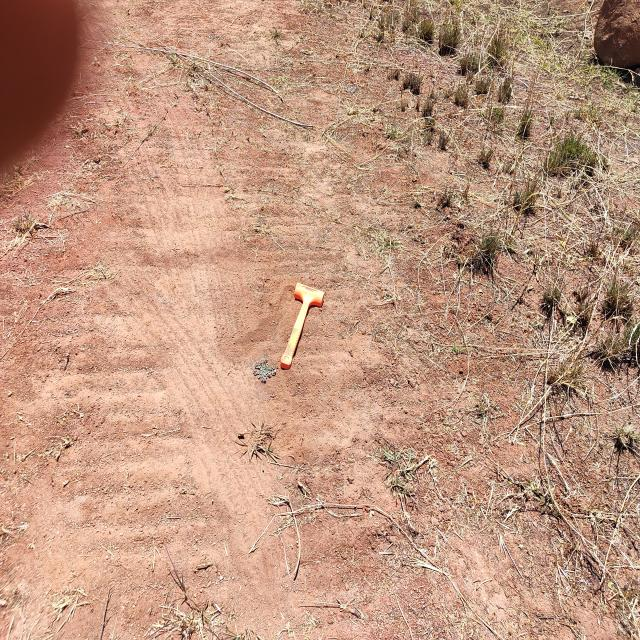Orange_hammer: (279, 282, 325, 371)
